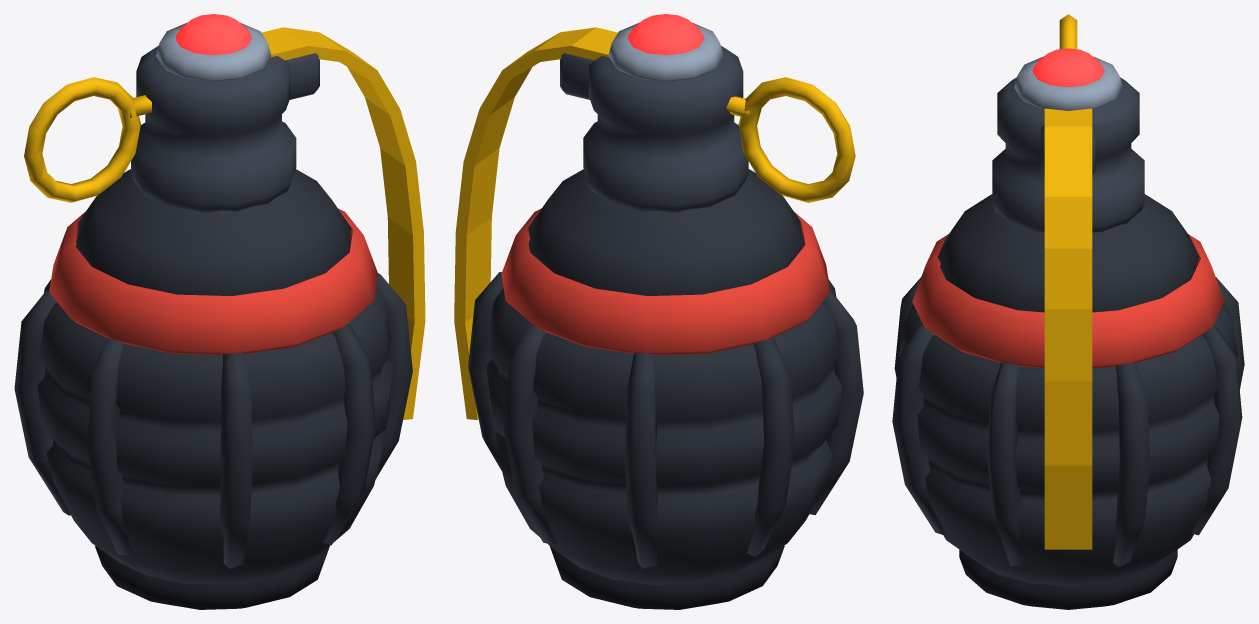
The model's file is item_frag_grenade.glb.
3 renders of one model, left to right at view 1: azimuth 30°, elevation 25°; view 2: azimuth 150°, elevation 25°; view 3: azimuth 270°, elevation 25°, orthographic. The views are drawn at different scales.
Visible parts, largest first — view 1: GrenadeOvoidBody, GoogleRedWarningBand, FuseNeckCollar, BrassSafetyLever, FragRib_5, BrassPullRing, GrenadeBasePad, FragRib_4, FragRib_6, FragRib_3, FuseLEDBezel, FragRib_7 (+2 smaller); view 2: GrenadeOvoidBody, GoogleRedWarningBand, FuseNeckCollar, BrassSafetyLever, FragRib_2, FragRib_3, BrassPullRing, GrenadeBasePad, FragRib_1, FragRib_4, FuseLEDBezel, FragRib_0 (+2 smaller); view 3: GrenadeOvoidBody, BrassSafetyLever, GoogleRedWarningBand, FuseNeckCollar, FragRib_0, FragRib_7, GrenadeBasePad, FragRib_6, FragRib_1, FuseLEDBezel, FuseRedLED, FragRib_2 (+2 smaller).
Part boxes in pixels (box(x1,y1,x2,y2)): GrenadeOvoidBody: box(37, 169, 393, 585); GoogleRedWarningBand: box(49, 208, 377, 355); FuseNeckCollar: box(131, 46, 296, 212); BrassSafetyLever: box(262, 27, 425, 419); FragRib_5: box(220, 353, 252, 568); BrassPullRing: box(24, 77, 140, 202); GrenadeBasePad: box(95, 546, 329, 609); FragRib_4: box(87, 338, 133, 555); FragRib_6: box(323, 324, 375, 545); FragRib_3: box(14, 290, 71, 515); FuseLEDBezel: box(156, 22, 271, 81); FragRib_7: box(375, 273, 412, 479); GrenadeOvoidBody: box(486, 169, 841, 585); GoogleRedWarningBand: box(501, 208, 830, 355); FuseNeckCollar: box(583, 46, 748, 212); BrassSafetyLever: box(454, 27, 617, 419); FragRib_2: box(625, 353, 657, 568); FragRib_3: box(747, 337, 794, 556); BrassPullRing: box(738, 77, 855, 202); GrenadeBasePad: box(550, 546, 784, 609); FragRib_1: box(504, 324, 556, 544); FragRib_4: box(809, 290, 863, 515); FuseLEDBezel: box(608, 22, 723, 81); FragRib_0: box(468, 272, 503, 470); GrenadeOvoidBody: box(898, 194, 1239, 586); BrassSafetyLever: box(1044, 108, 1092, 549); GoogleRedWarningBand: box(912, 234, 1224, 368); FuseNeckCollar: box(992, 77, 1144, 232); FragRib_0: box(1113, 362, 1150, 566); FragRib_7: box(987, 362, 1024, 565); GrenadeBasePad: box(959, 550, 1177, 609); FragRib_6: box(892, 325, 945, 535); FragRib_1: box(1191, 325, 1242, 535); FuseLEDBezel: box(1014, 56, 1122, 110); FuseRedLED: box(1032, 48, 1104, 87); FragRib_2: box(1216, 277, 1244, 389).
Bounding box in the file's own units: 0.249 × 0.338 × 0.2074.
